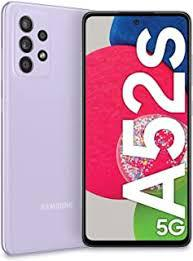Smartphone: (83, 13, 188, 247), (6, 0, 90, 249)
